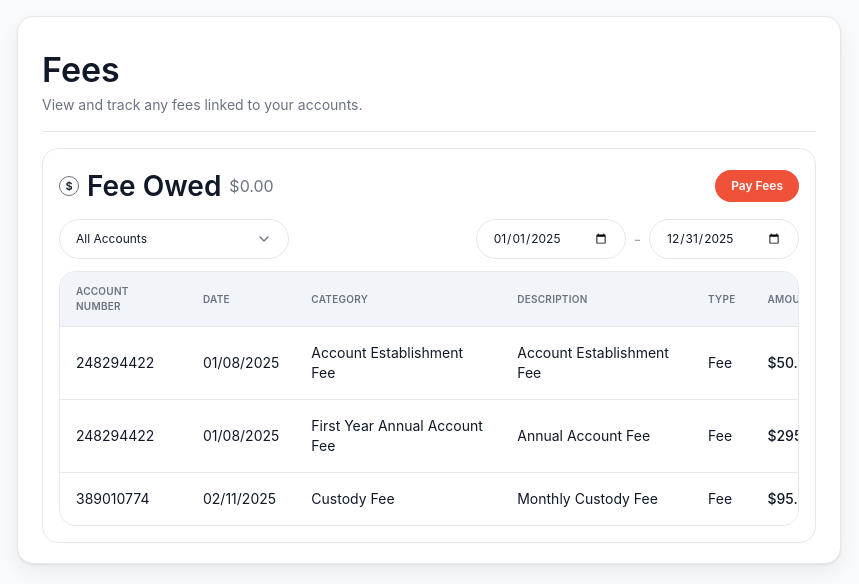
Test: FeesPage › filters by selected account
Click the dropdown named "select account" at x=174, y=239, box [59, 219, 289, 259]
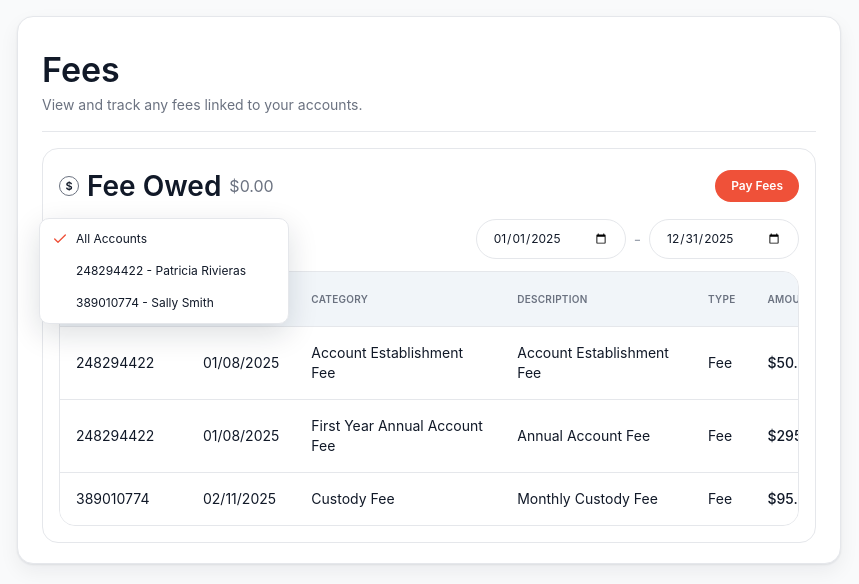
Click the option "248294422 - Patricia Rivieras" at x=161, y=270, box [76, 263, 246, 278]
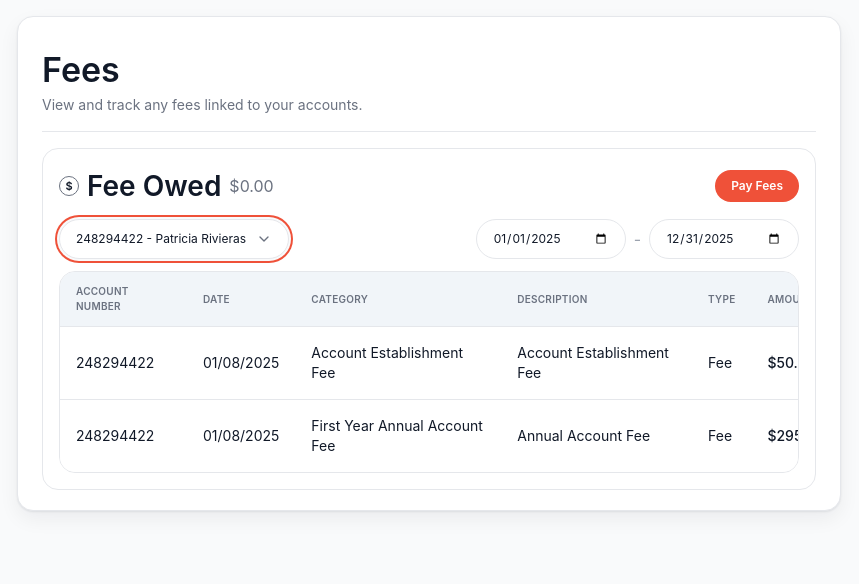
Expected: the text "389010774" is gone
